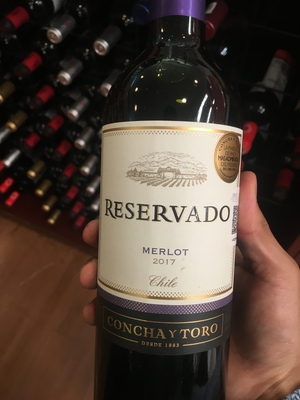reservado merlot: (104, 29, 250, 400)
